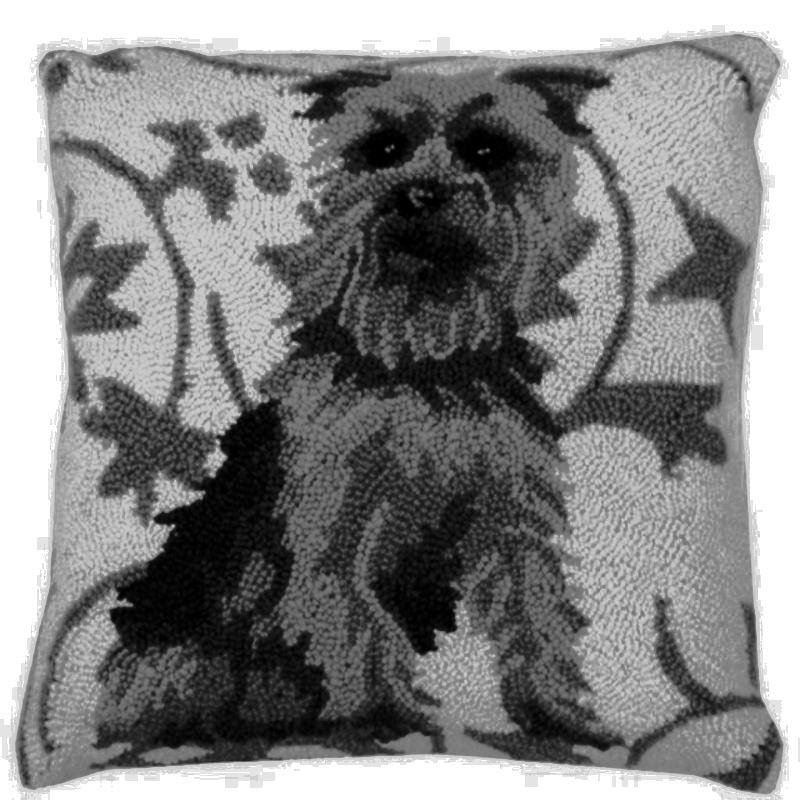pillow: (7, 8, 800, 800)
